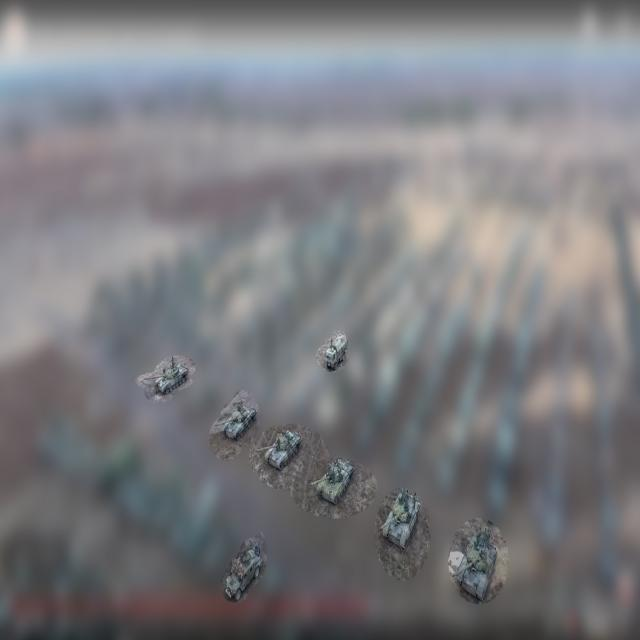tank: (450, 528, 498, 605), (377, 489, 421, 550), (309, 456, 355, 506), (256, 428, 303, 472), (213, 399, 257, 442), (144, 361, 189, 396)
